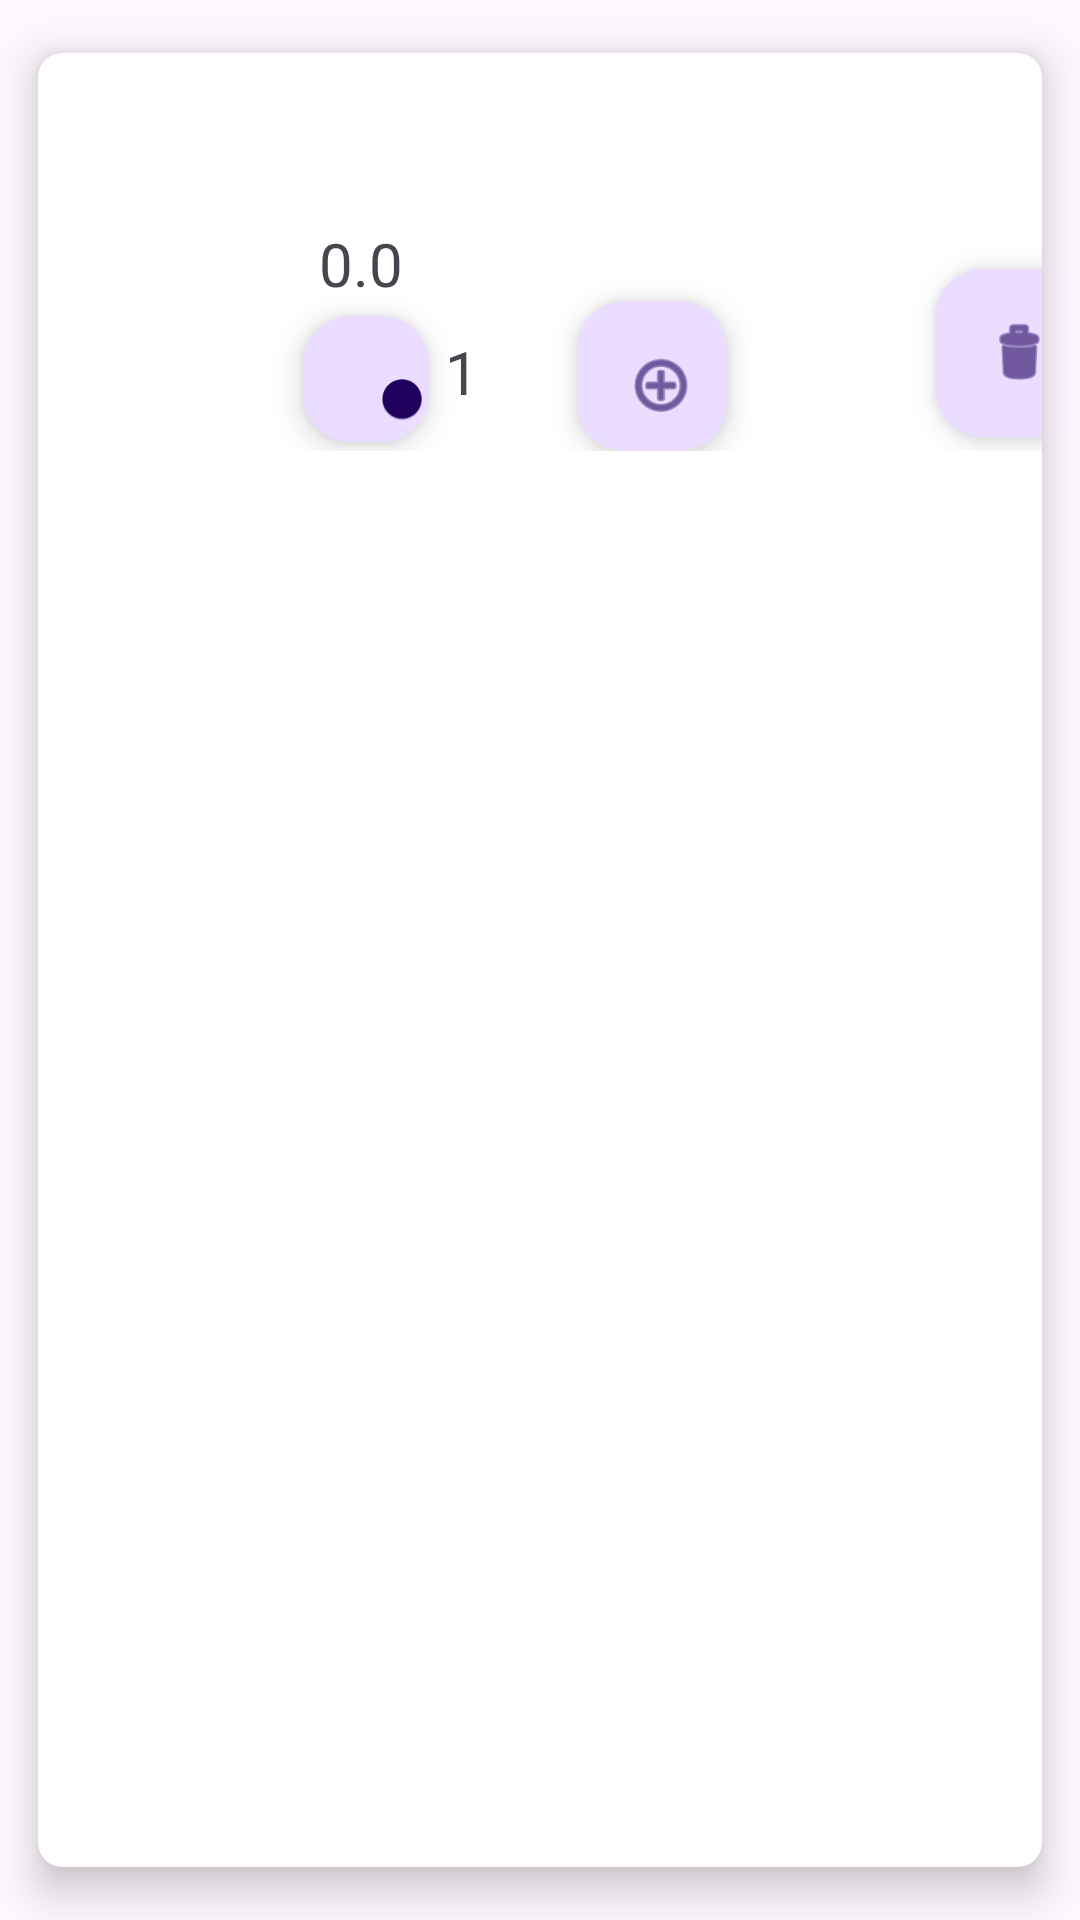

Named icons in this screenshot (1080px×1920px) and their centers, [x,y]:
add: [652,376]
